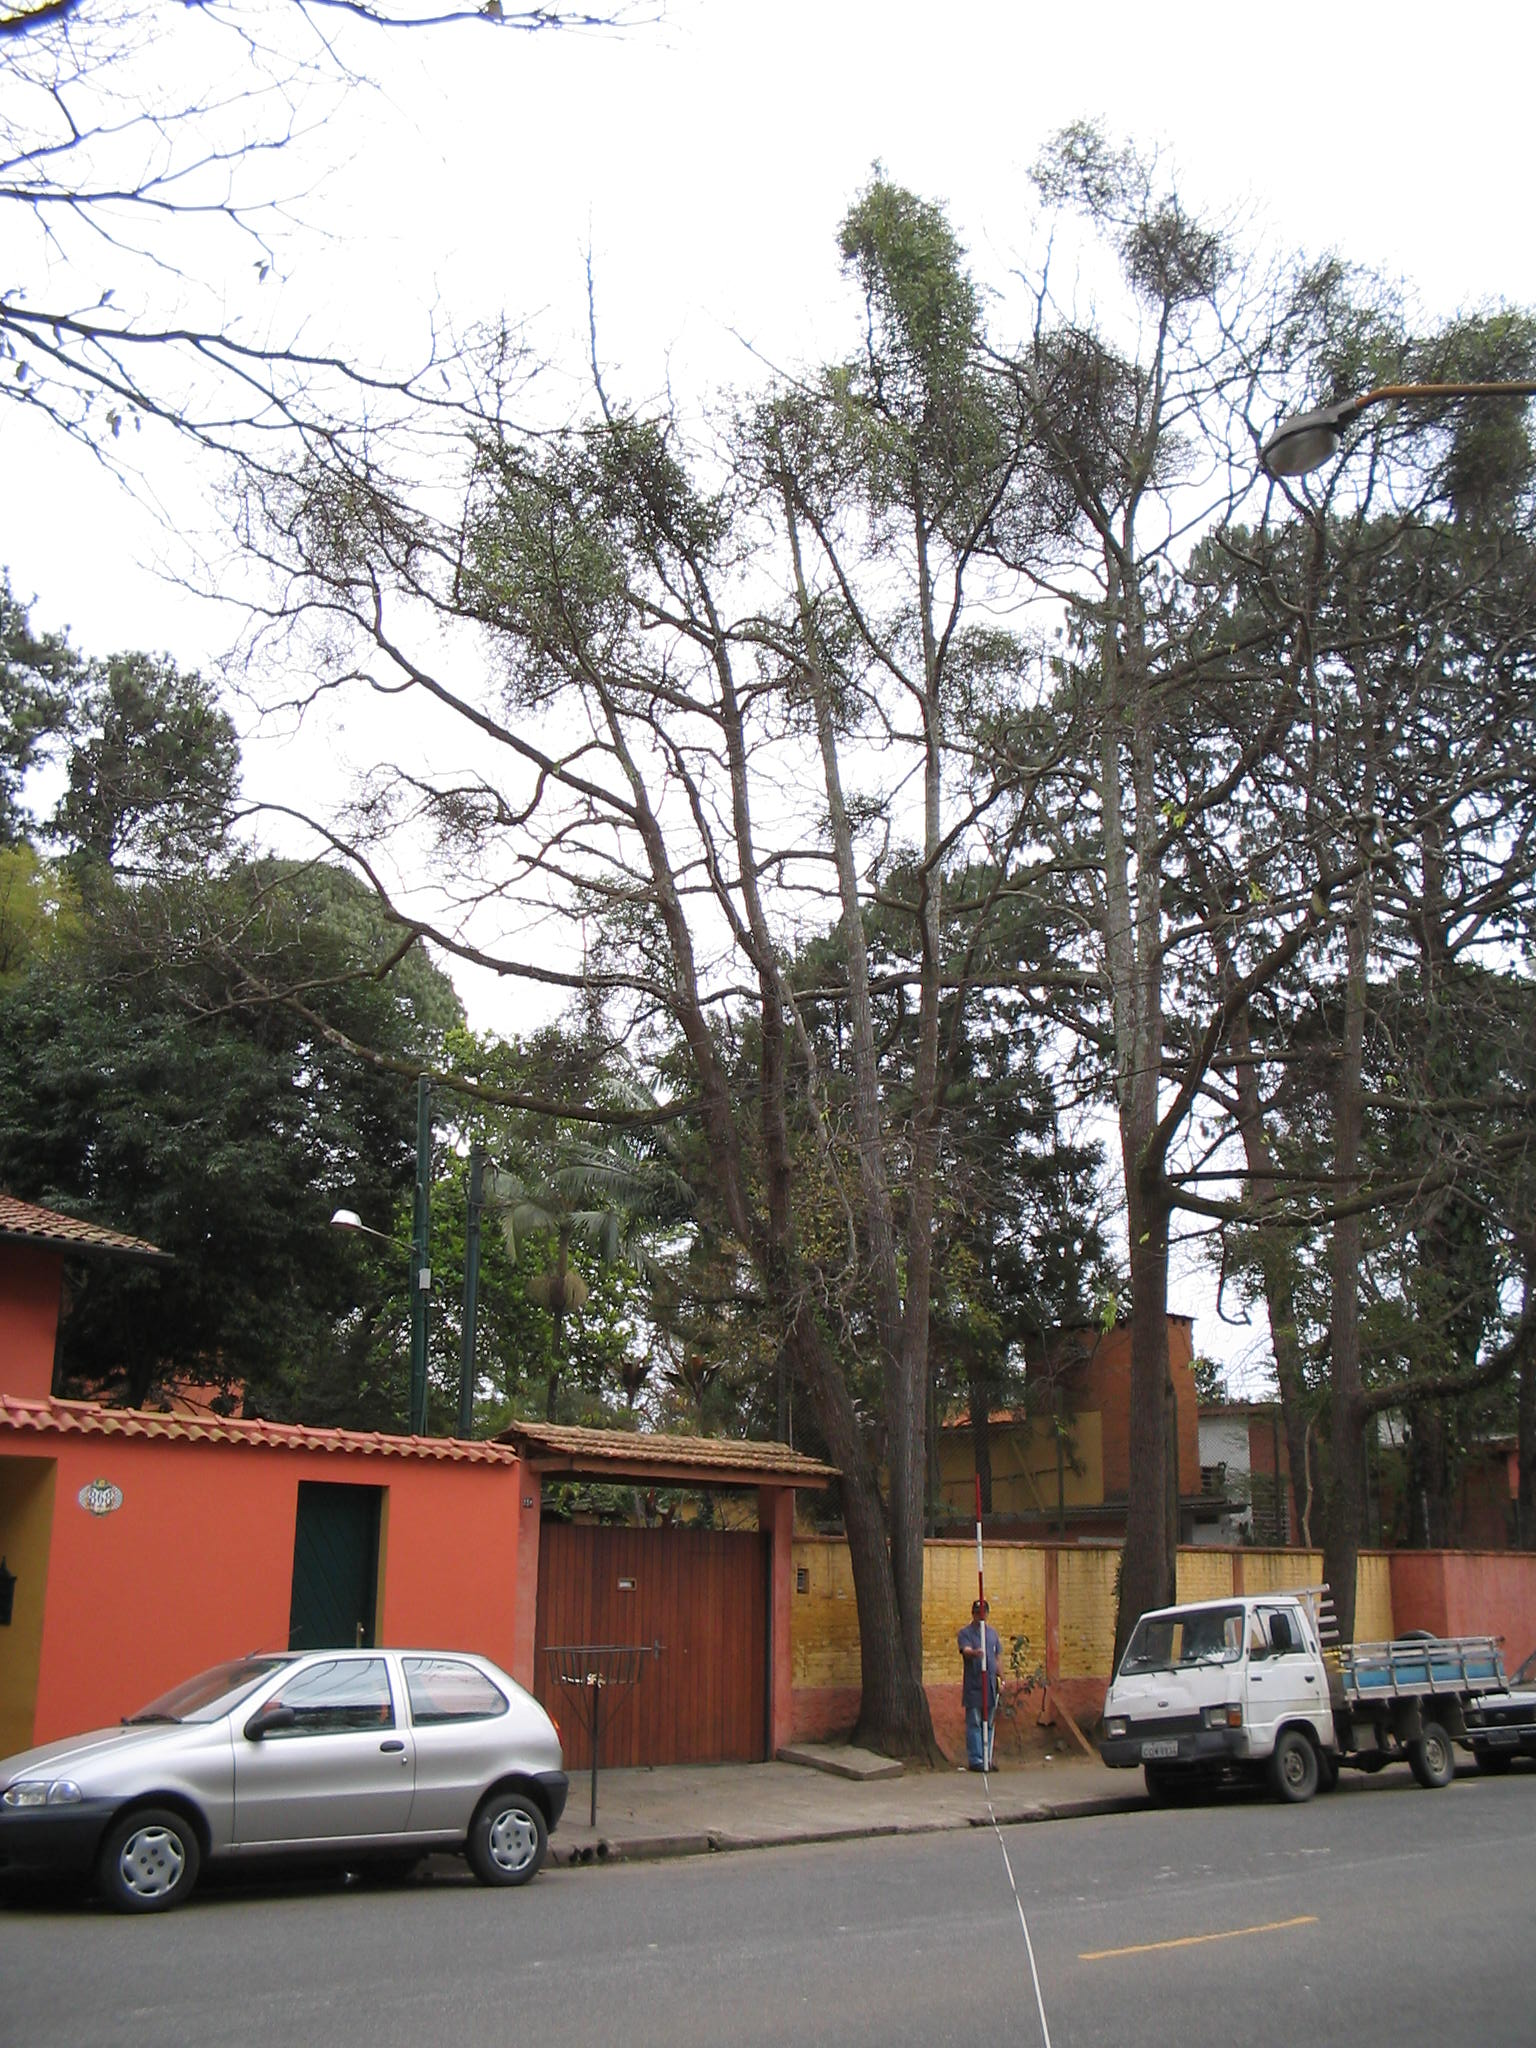stem: (824, 1596, 963, 1771)
stick: (957, 1476, 1010, 1772)
tree: (203, 187, 1110, 1774)
